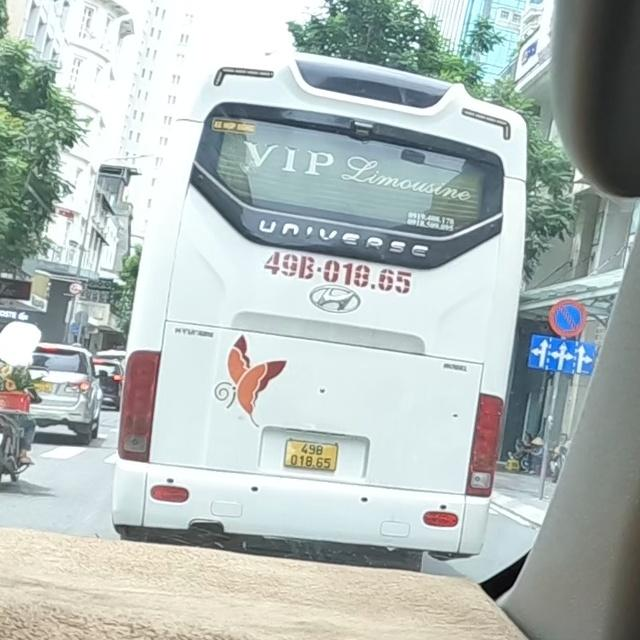license-plate: (284, 440, 338, 472)
